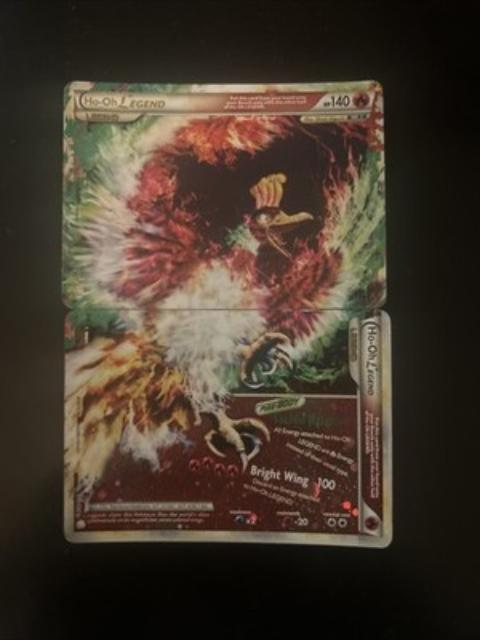Card: (60, 306, 397, 552), (58, 75, 390, 311)
Name: (360, 322, 383, 403), (78, 92, 171, 110)
